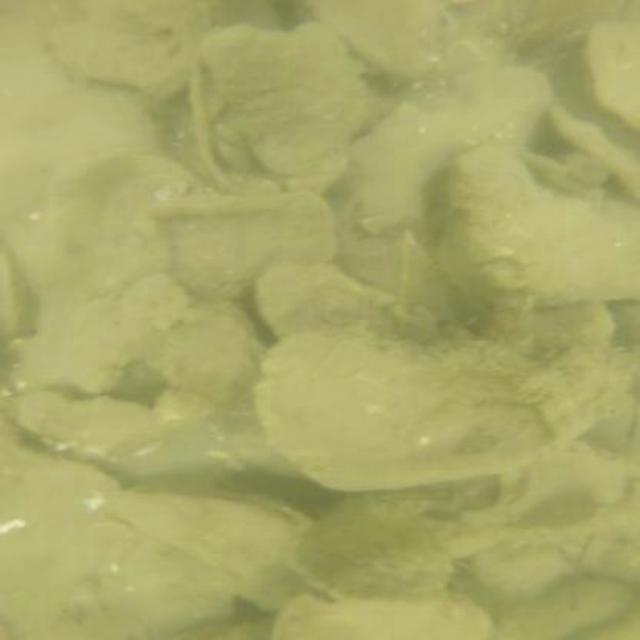Oyster-Closed: (259, 328, 637, 490), (434, 147, 624, 311), (99, 487, 333, 614), (203, 20, 365, 173), (138, 187, 345, 305), (291, 486, 463, 604), (49, 1, 210, 97), (308, 4, 450, 79)
